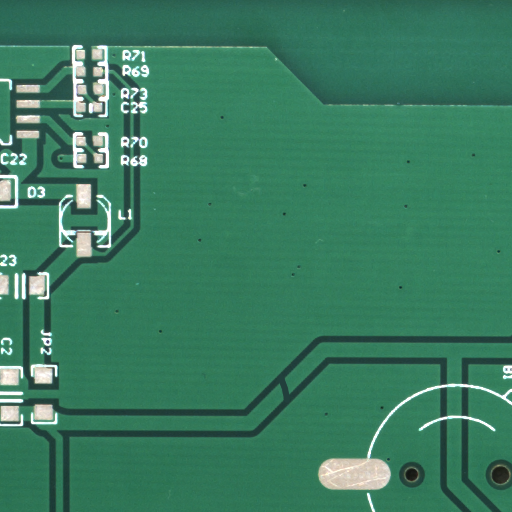Open_circuit: (284, 387, 300, 418)
